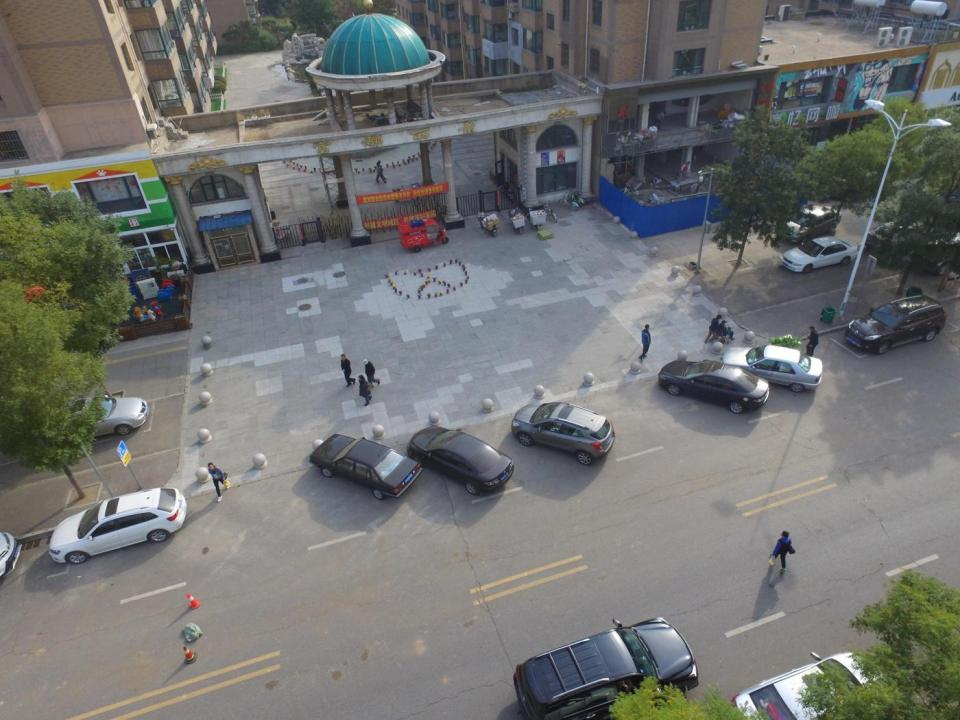car: (512, 618, 706, 716), (50, 487, 186, 563), (732, 655, 886, 720), (406, 425, 514, 495), (310, 434, 422, 499), (513, 404, 615, 463), (658, 360, 771, 413), (846, 296, 944, 355), (721, 346, 823, 391), (48, 397, 146, 439), (781, 237, 856, 272), (778, 207, 842, 244), (865, 217, 934, 250), (910, 231, 960, 274)
